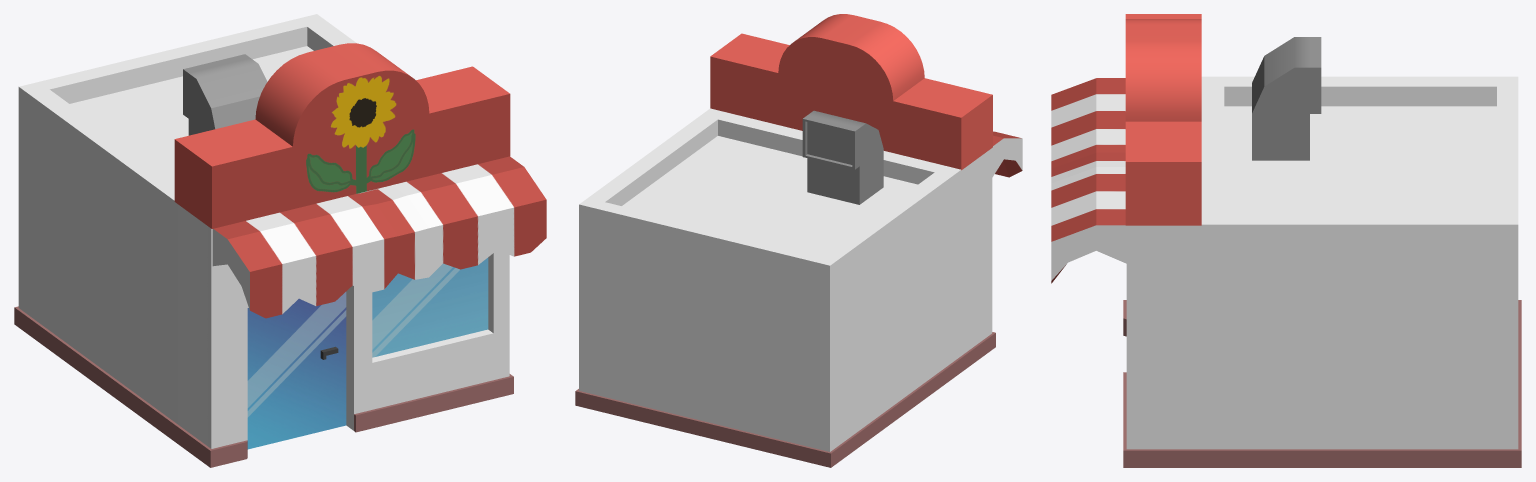
Rendered from flower shop11.fbx.
The picture shows the model from 3 angles, left to right: view 1: azimuth 30°, elevation 25°; view 2: azimuth 150°, elevation 25°; view 3: azimuth 270°, elevation 25°; orthographic projection. The views are drawn at different scales.
Visible parts, largest first — view 1: flower_shop; view 2: flower_shop; view 3: flower_shop.
Part boxes in pixels (x1,y1,x2,y2): flower_shop: (14, 14, 546, 467); flower_shop: (575, 14, 1022, 467); flower_shop: (1051, 14, 1521, 467).
Bounding box in the file's own units: 2001 × 2231 × 2644.
